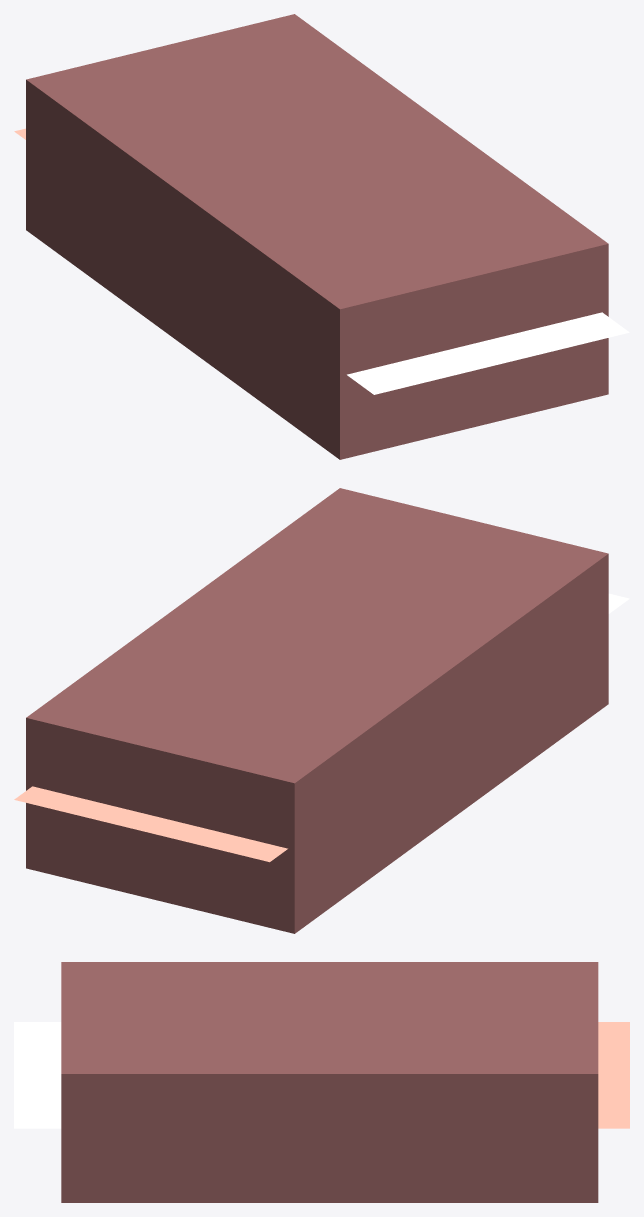
Rendered from ground_car.glb.
3 views of the same model, one above another, from view 1: azimuth 30°, elevation 25°; view 2: azimuth 150°, elevation 25°; view 3: azimuth 270°, elevation 25° (orthographic). The views are drawn at different scales.
Visible parts, largest first — view 1: ground_car; view 2: ground_car; view 3: ground_car.
Boxes of the visible parts, box(x1,y1,x2,y2) form: ground_car: box(14, 14, 629, 459); ground_car: box(14, 488, 629, 933); ground_car: box(14, 962, 629, 1202).
Bounding box in the file's own units: 0.84 × 0.45 × 1.95.
